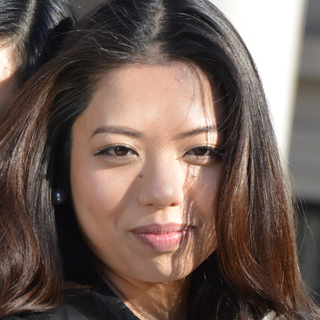eye: (176, 140, 227, 166), (88, 140, 145, 163)
